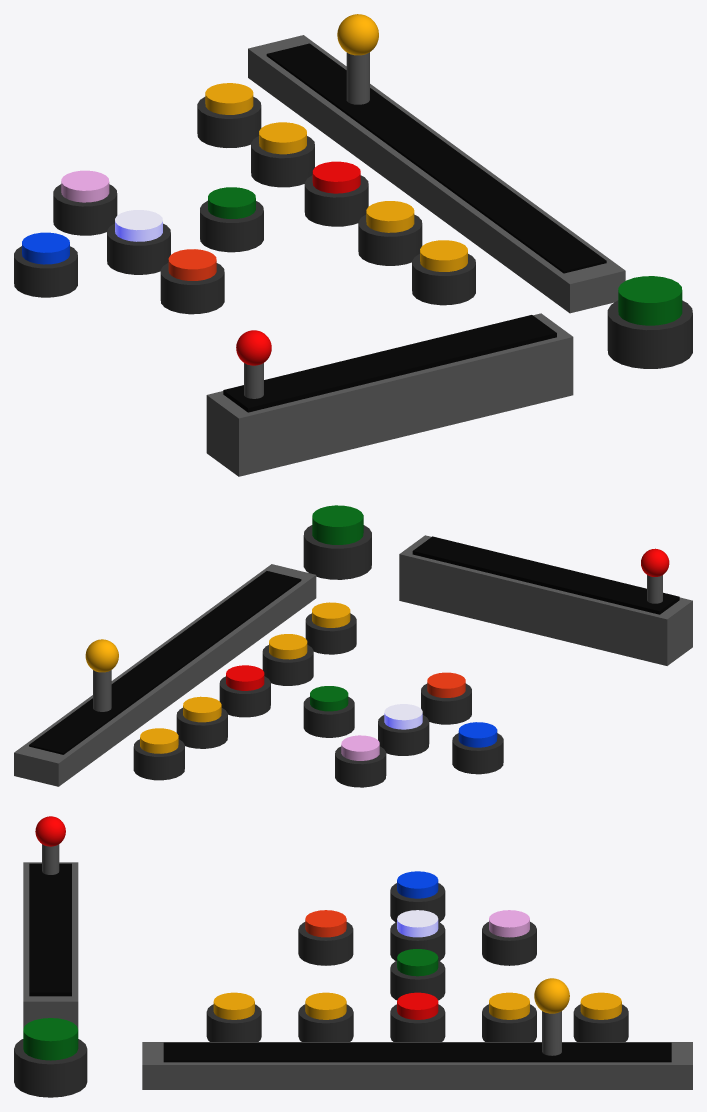
File: TV XR Control Panel.fbx
3 renders of one model, top to bottom at view 1: azimuth 30°, elevation 25°; view 2: azimuth 150°, elevation 25°; view 3: azimuth 270°, elevation 25°, orthographic. The views are drawn at different scales.
Parts seen in each view (by area): view 1: LeverBase, LeverBase_1, Cube_1, Cube, Base, Button, Base_4, Base_2, Base_9, Base_1, Base_8, Base_3 (+17 smaller); view 2: LeverBase, LeverBase_1, Cube_1, Cube, Base, Button, Base_3, Base_2, Base_6, Base_1, Base_5, Base_9 (+17 smaller); view 3: LeverBase_1, Cube_1, Cube, LeverBase, Base, Button, Base_4, Base_3, Base_10, Base_9, Base_6, Base_8 (+18 smaller).
Part boxes in pixels (x1,y1,x2,y2): LeverBase: (206, 313, 573, 476); LeverBase_1: (248, 35, 625, 313); Cube_1: (266, 43, 606, 273); Cube: (223, 315, 556, 412); Base: (607, 300, 692, 368); Button: (618, 276, 682, 325); Base_4: (160, 262, 224, 314); Base_2: (14, 246, 77, 297); Base_9: (412, 254, 475, 305); Base_1: (200, 200, 263, 252); Base_8: (304, 175, 368, 226); Base_3: (53, 184, 117, 235); LeverBase: (399, 535, 692, 665); LeverBase_1: (14, 564, 316, 786); Cube_1: (29, 571, 301, 754); Cube: (412, 536, 679, 614); Base: (303, 525, 371, 579); Button: (312, 505, 363, 544); Base_3: (335, 746, 386, 787); Base_2: (452, 733, 503, 774); Base_6: (133, 739, 184, 780); Base_1: (303, 697, 354, 737); Base_5: (378, 715, 429, 755); Base_9: (305, 613, 356, 654); LeverBase_1: (142, 1042, 692, 1089); Cube_1: (163, 1042, 671, 1062); Cube: (29, 863, 71, 996); LeverBase: (23, 862, 78, 1028); Base: (14, 1039, 87, 1097); Button: (23, 1018, 78, 1060); Base_4: (298, 922, 353, 965); Base_3: (482, 922, 536, 965); Base_10: (298, 1004, 353, 1041); Base_9: (206, 1004, 261, 1041); Base_6: (573, 1004, 628, 1041); Base_8: (390, 1004, 445, 1041).
Bounding box in the file's own units: 62.5 × 16.69 × 92.5.
